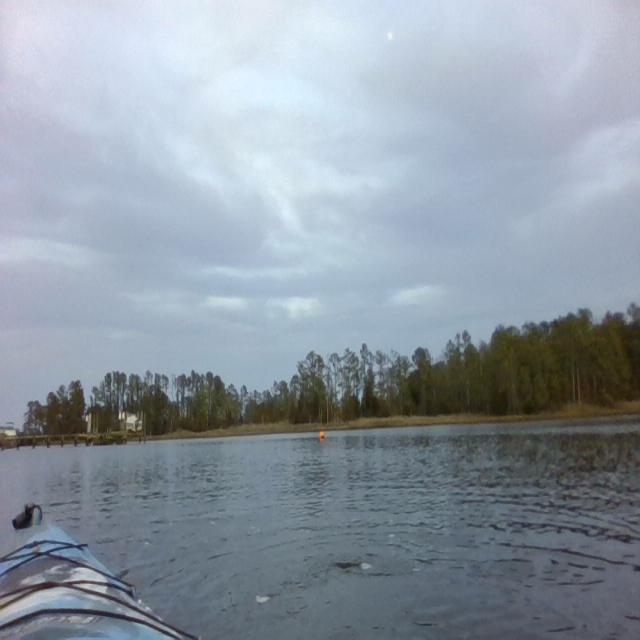Buoy: (318, 429, 327, 441)
